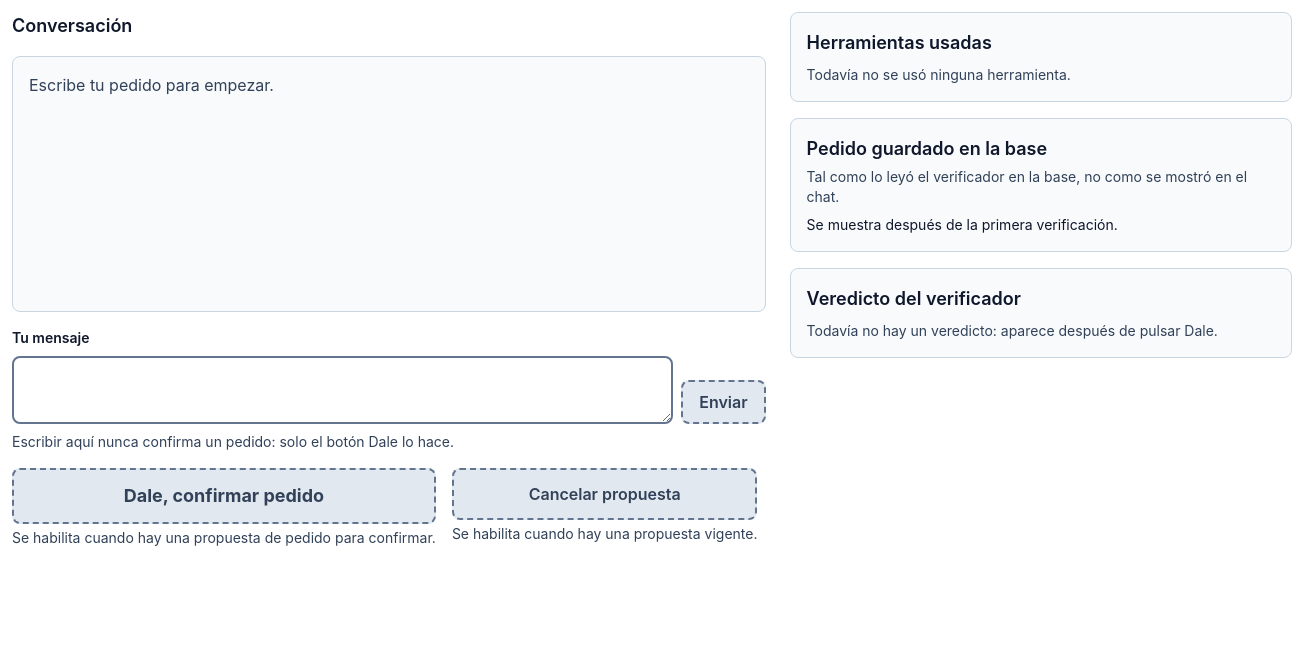
Test: a summary says where its proposal stands (S15.5) › says confirmed even if the host still names the proposal as pending
Type "dos harinas" into the text box labelled "Tu mensaje". click: (343, 390)
box: [12,356,673,424]
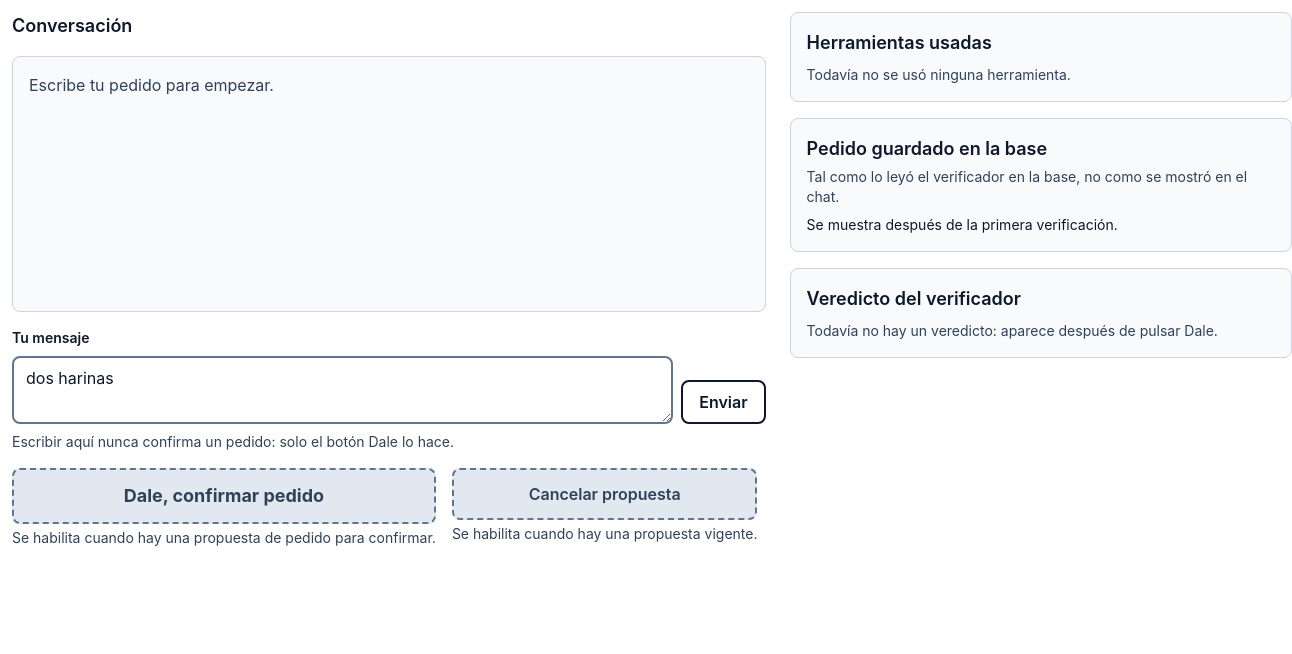
Click the button "Enviar". click: (723, 402)
box: [681,380,766,424]
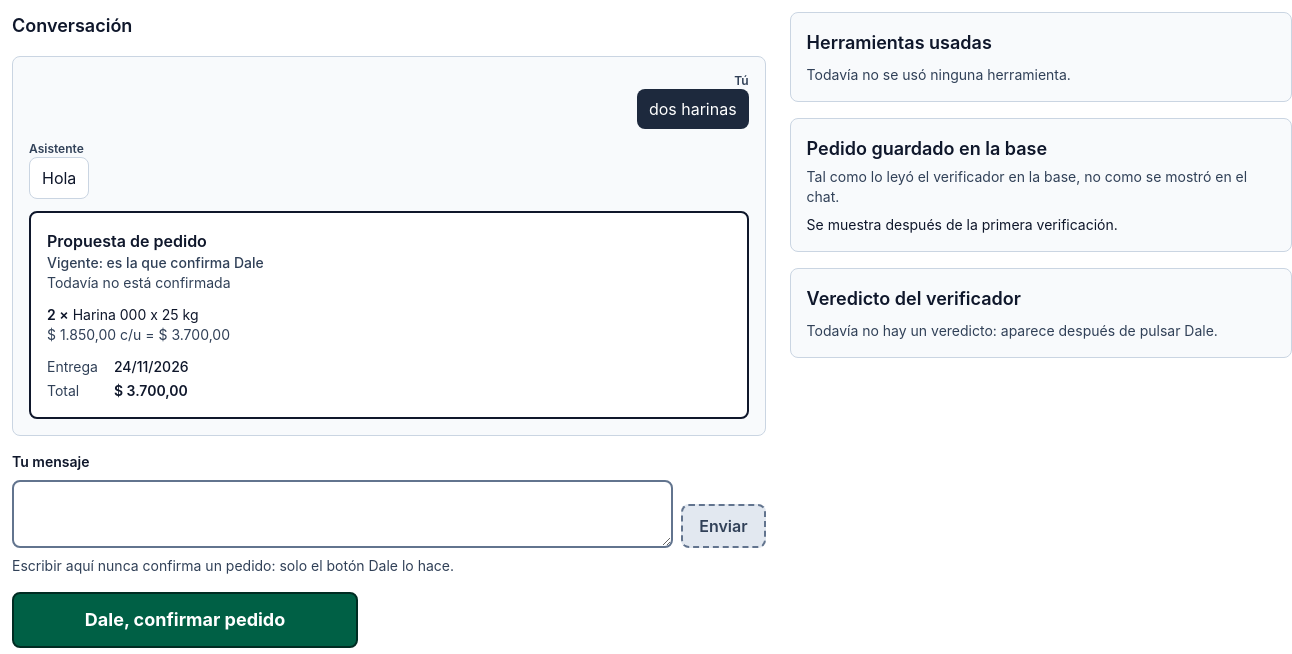
Click the button "Dale, confirmar pedido". click: (185, 620)
box: [12,592,358,648]
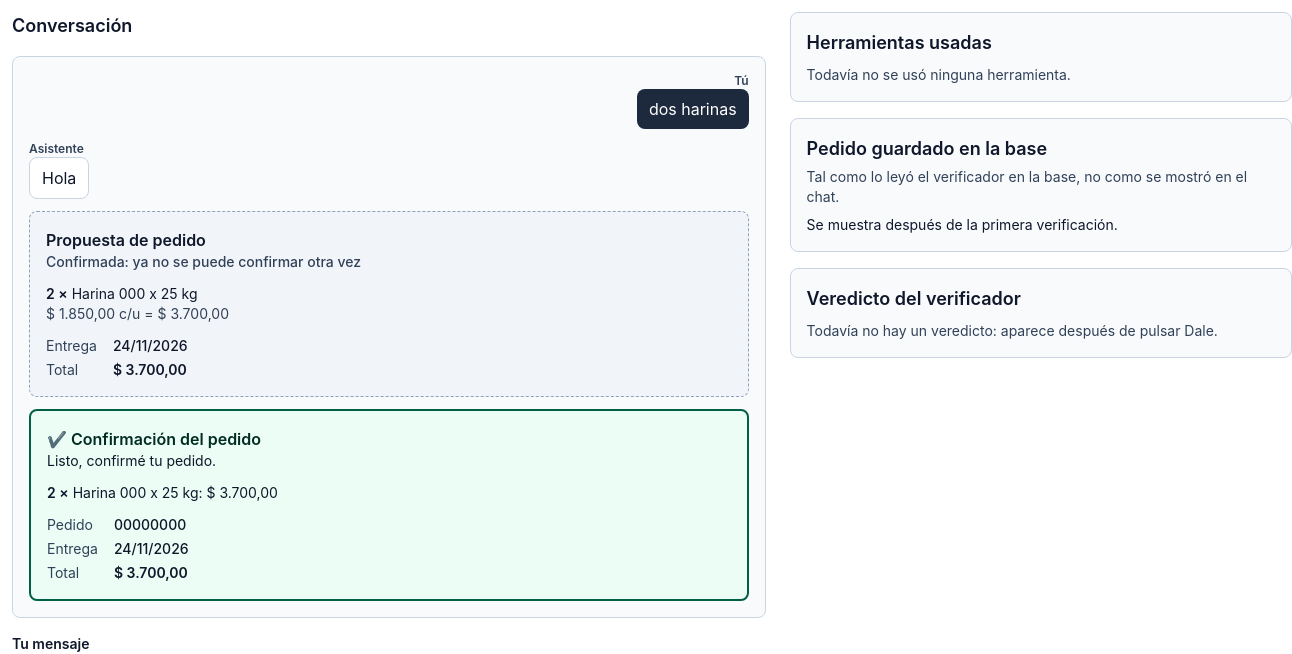
Check: the text "Confirmada: ya no se puede confirmar otra vez" is shown, box [46,253,361,270]
Check: the text "Vigente: es la que confirma Dale" is gone
